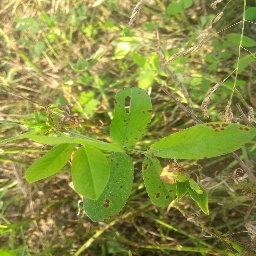GroundNut_Leaf: (155, 122, 255, 158), (112, 87, 153, 151), (71, 147, 110, 199), (138, 160, 177, 208), (26, 143, 70, 185), (179, 164, 210, 216), (78, 93, 99, 118), (227, 33, 254, 48), (168, 1, 192, 15), (242, 6, 256, 23)
